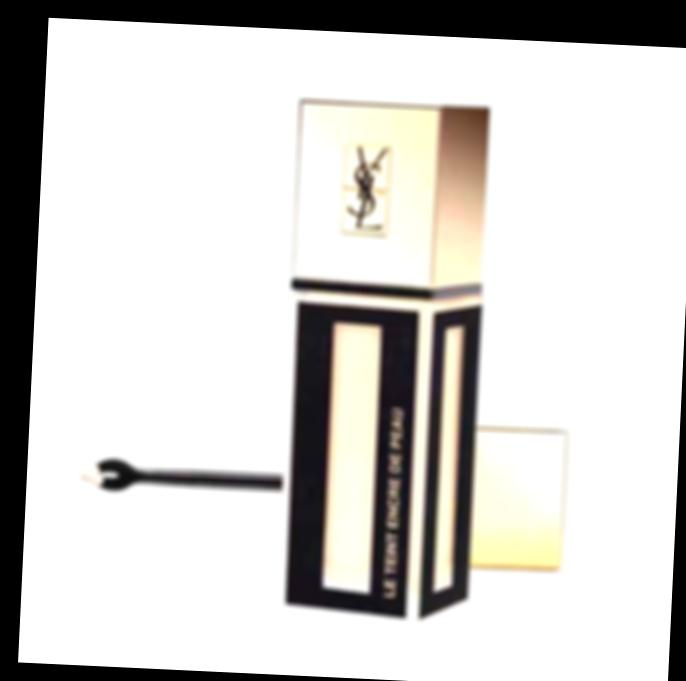cosmetic: (277, 99, 495, 626)
